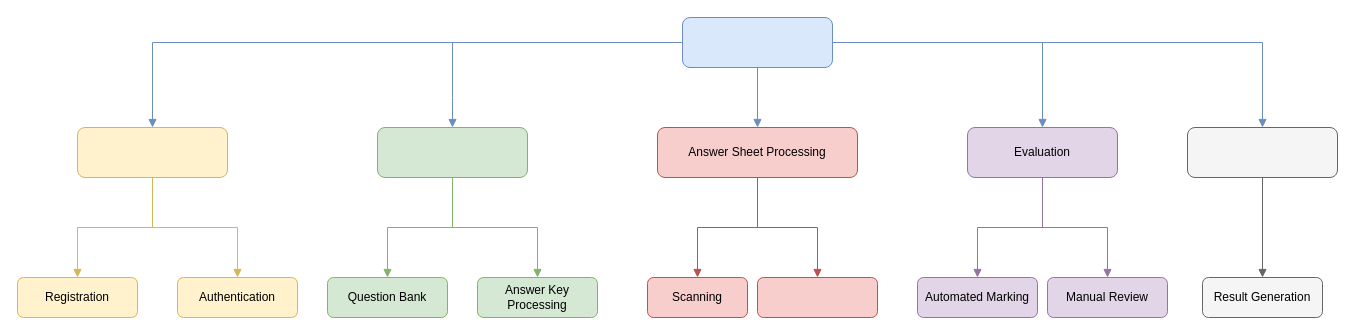
This 1355x335 diagram has some shape labels left out. The centre of each missing label's shape, as x and y in pixels:
Data Extraction: pixel 817 297
Exam Setup: pixel 452 152
Main System: pixel 757 42
Reporting: pixel 1262 152
User Management: pixel 152 152
